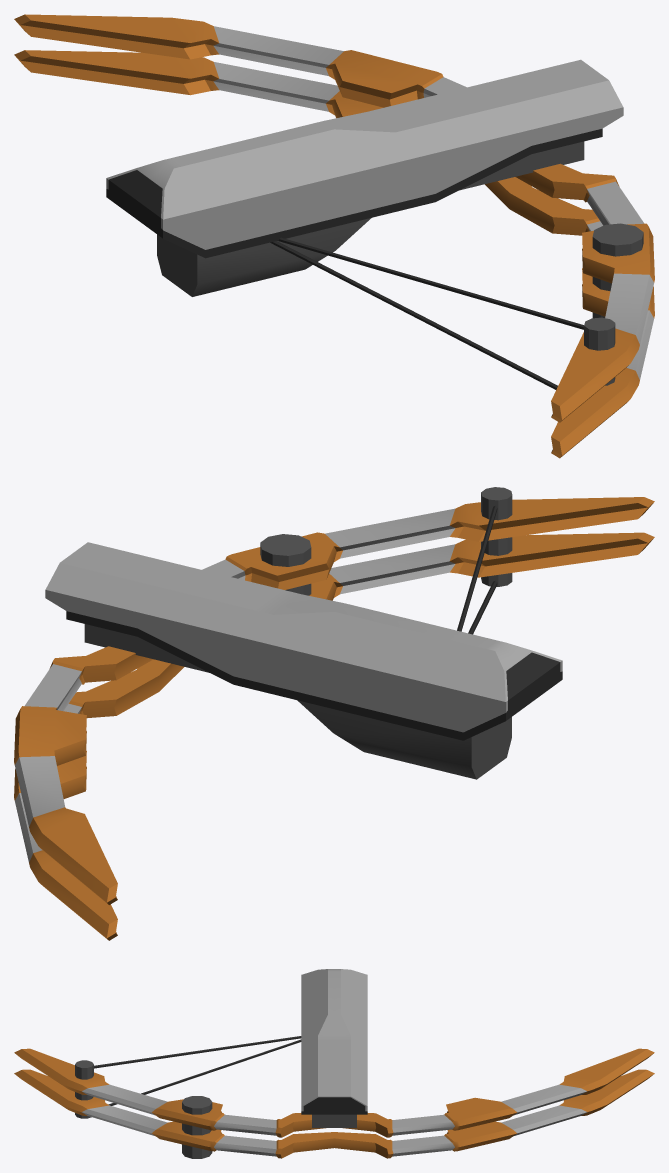
Rendered from Body_Crossbow_1.glb.
3 renders of one model, top to bottom at view 1: azimuth 30°, elevation 25°; view 2: azimuth 150°, elevation 25°; view 3: azimuth 270°, elevation 25°, orthographic. The views are drawn at different scales.
Visible parts, largest first — view 1: Body_Crossbow_1; view 2: Body_Crossbow_1; view 3: Body_Crossbow_1.
Boxes of the visible parts, x1=… form: Body_Crossbow_1: x1=14, y1=14, x2=654, y2=458; Body_Crossbow_1: x1=14, y1=487, x2=654, y2=940; Body_Crossbow_1: x1=14, y1=969, x2=654, y2=1158.
Size of the model in its own units: 0.9312 by 0.294 by 1.92.
